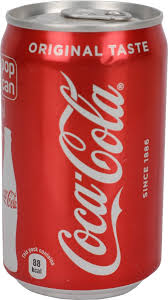can: (2, 1, 168, 300)
